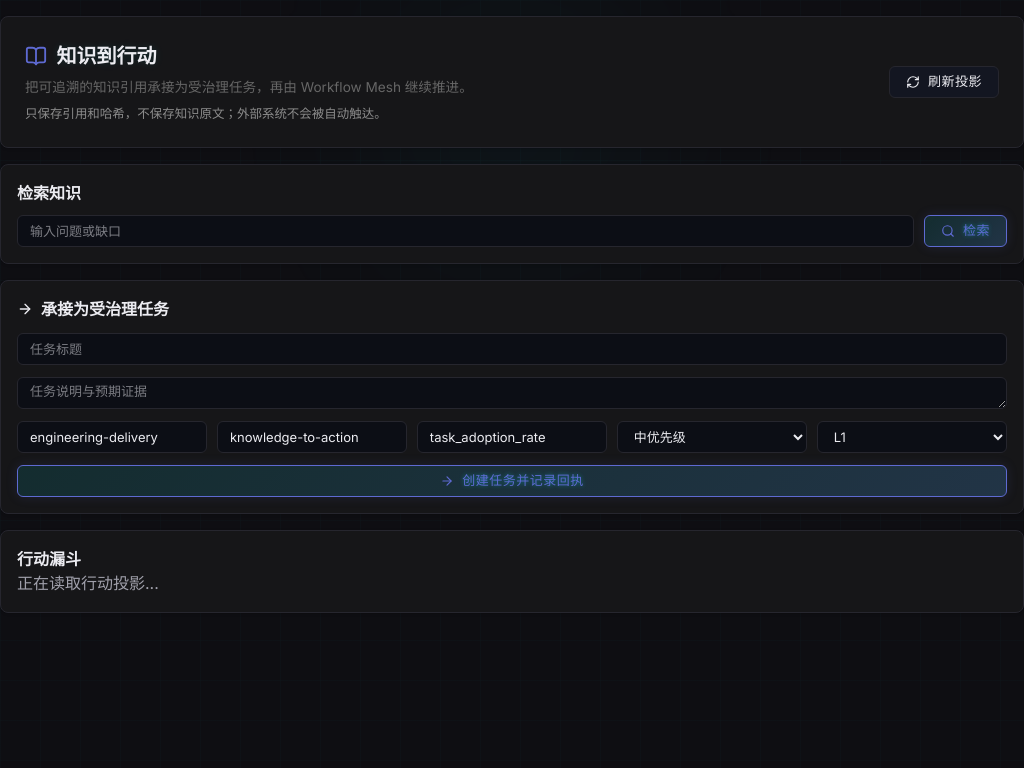
it: KnowledgeActionView › carries only knowledge references into a governed task and receipt
Step 1. Type "交付返工" into the field labelled "检索知识" → [466, 231], box [17, 215, 914, 247]
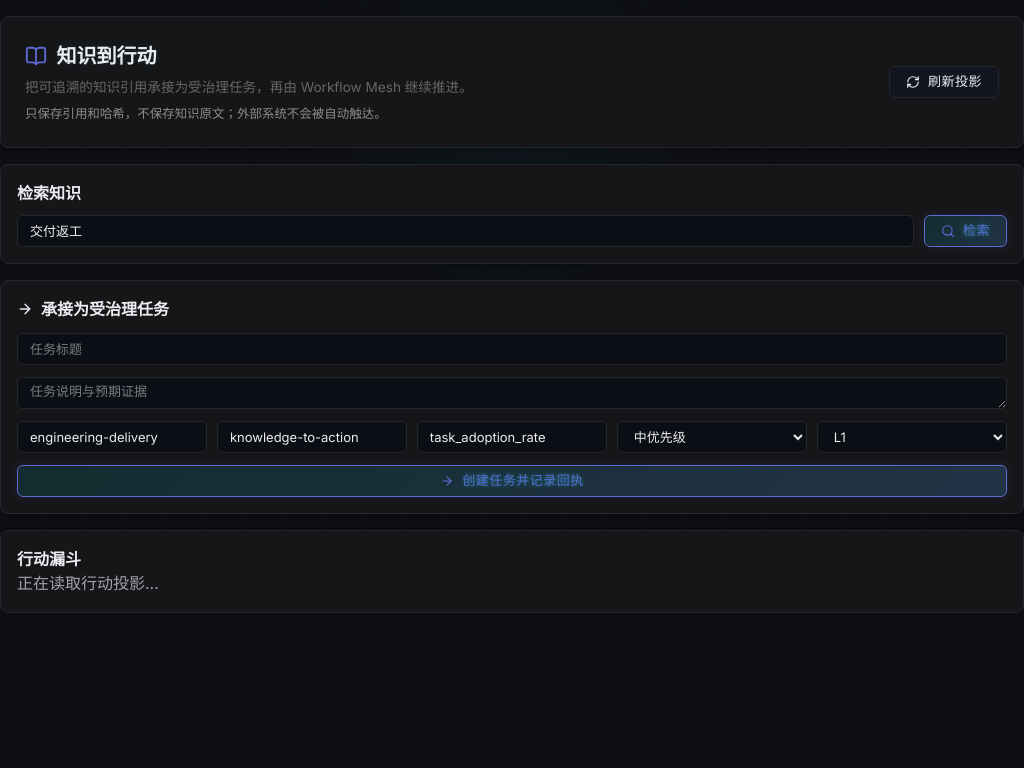
Step 2. Click the button "检索" → [966, 231], box [924, 215, 1007, 247]
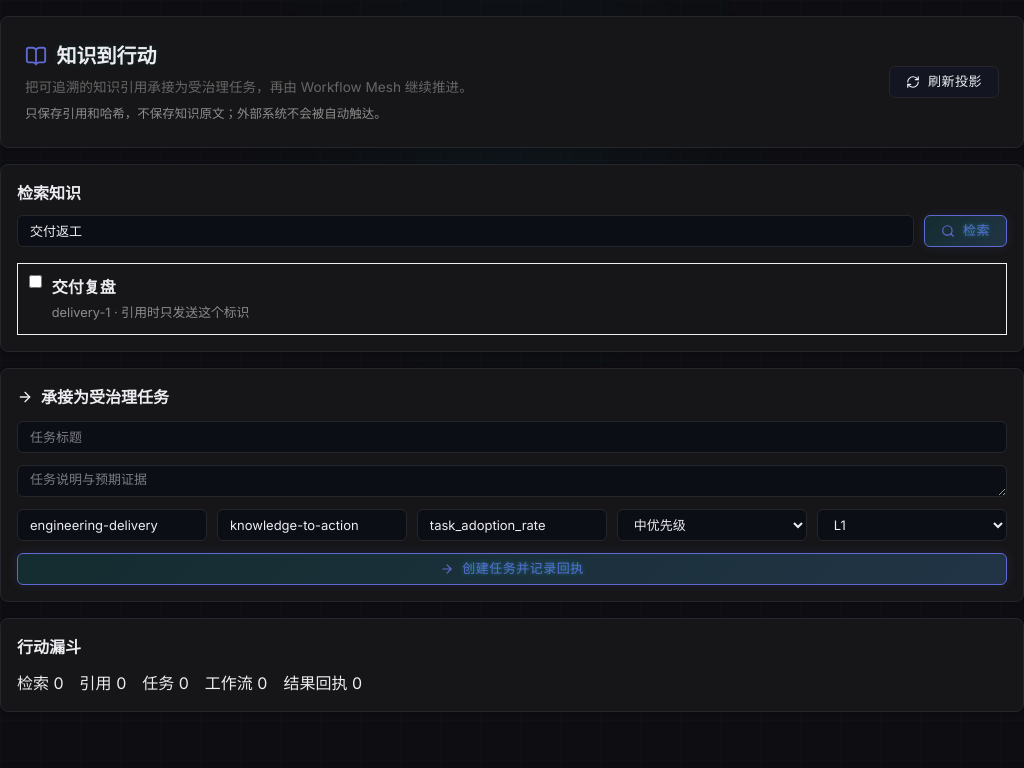
Now the text "交付复盘" is shown, box [52, 277, 116, 297]
Step 3. Click the checkbox → [36, 281], box [29, 275, 42, 288]
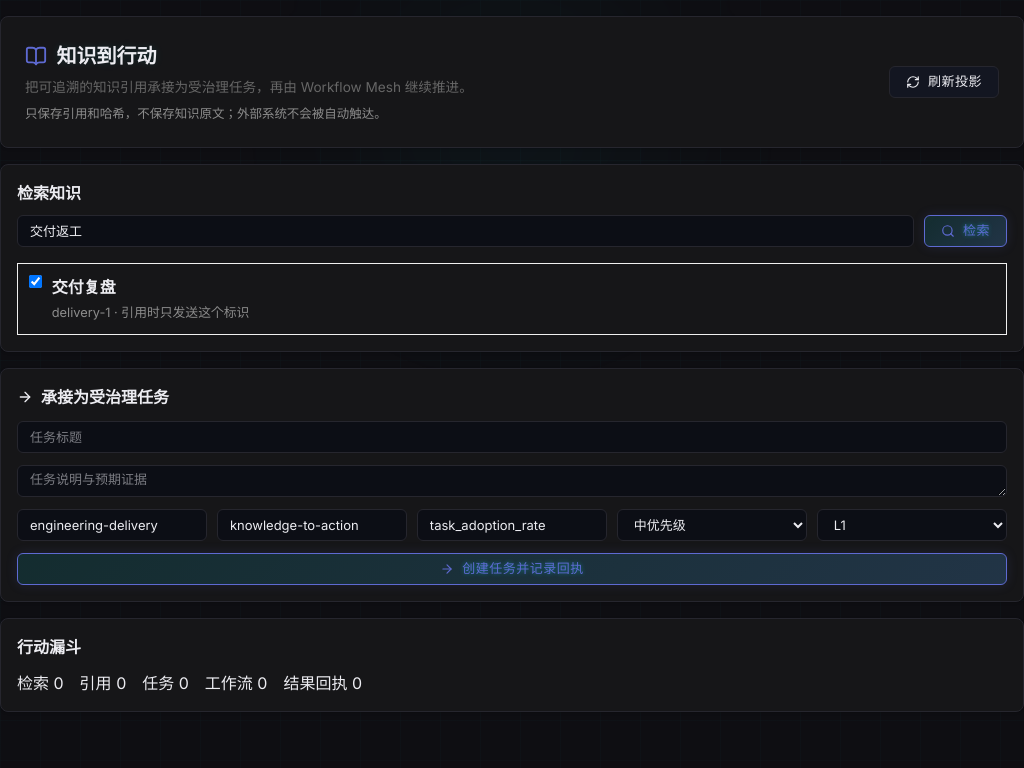
Step 4. Type "依据复盘补齐证据" into the field labelled "任务标题" → [512, 437], box [17, 421, 1007, 453]
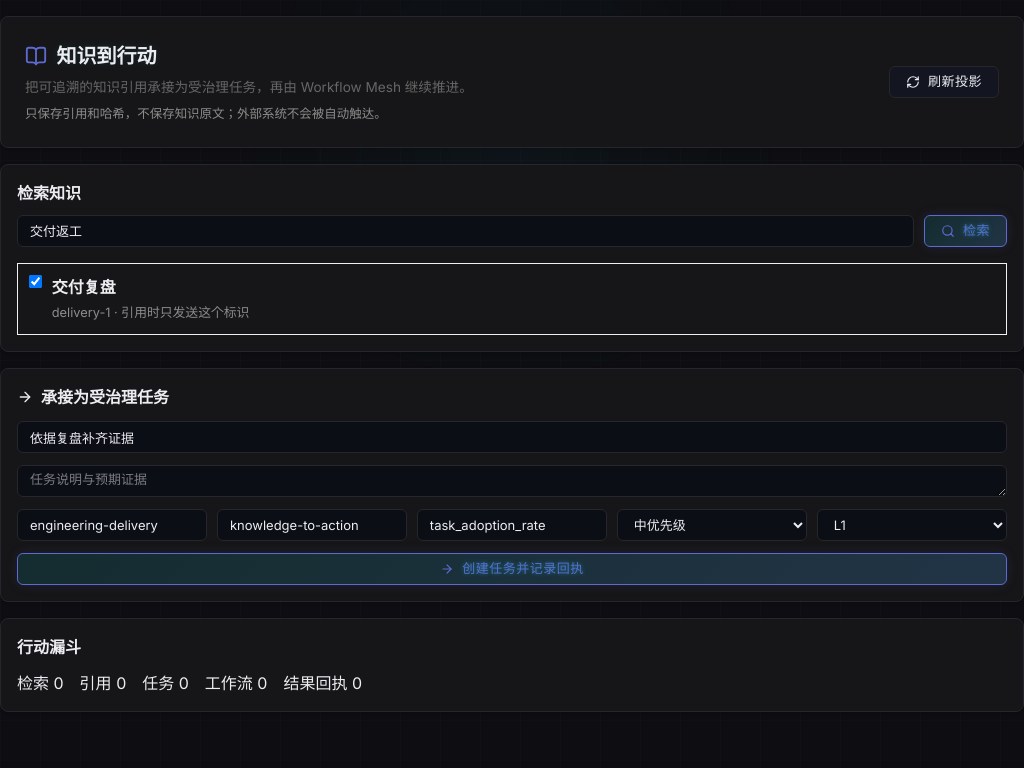
Step 5. Type "把结论变成可验证任务。" into the text box labelled "任务说明" → [512, 481], box [17, 465, 1007, 497]
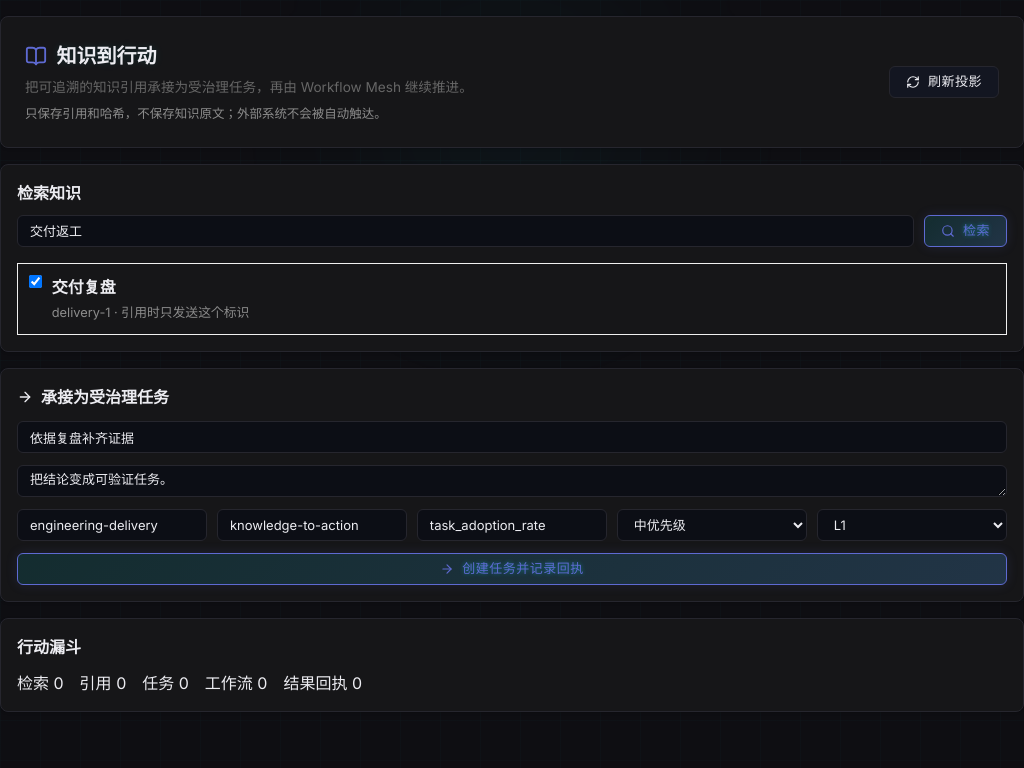
Step 6. Click the button "创建任务并记录回执" → [512, 569], box [17, 553, 1007, 585]
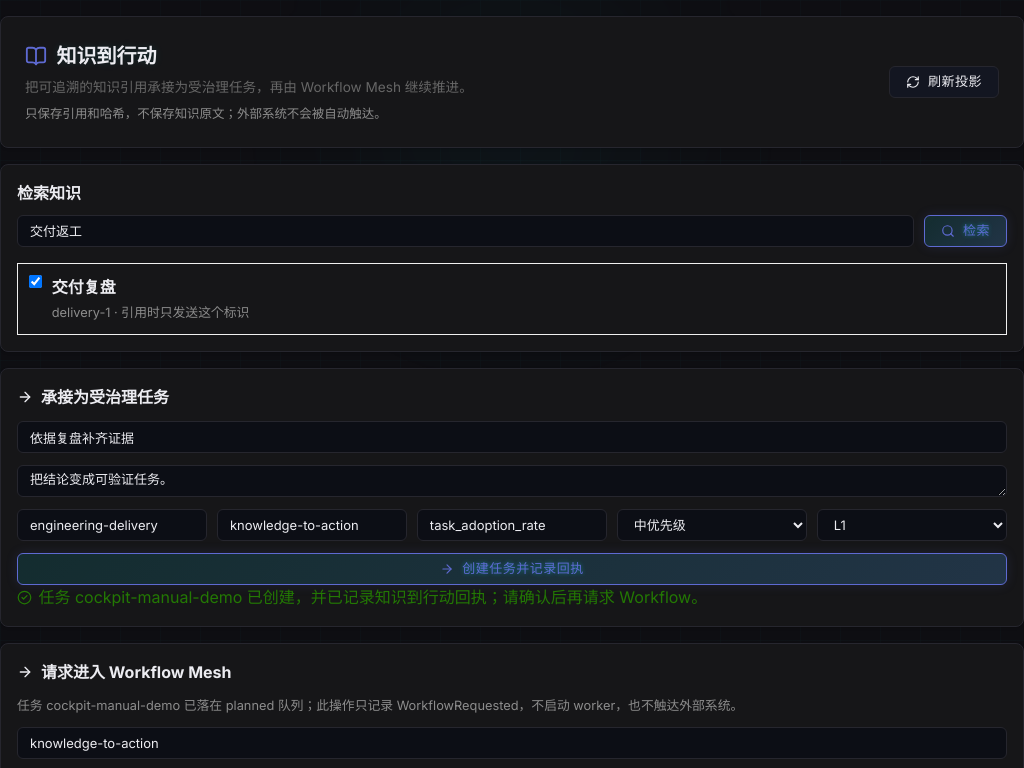
Now the text "任务 cockpit-manual-demo 已创建，并已记录知识到行动回执；请确认后再请求 Workflow。" is shown, box [17, 587, 707, 607]
